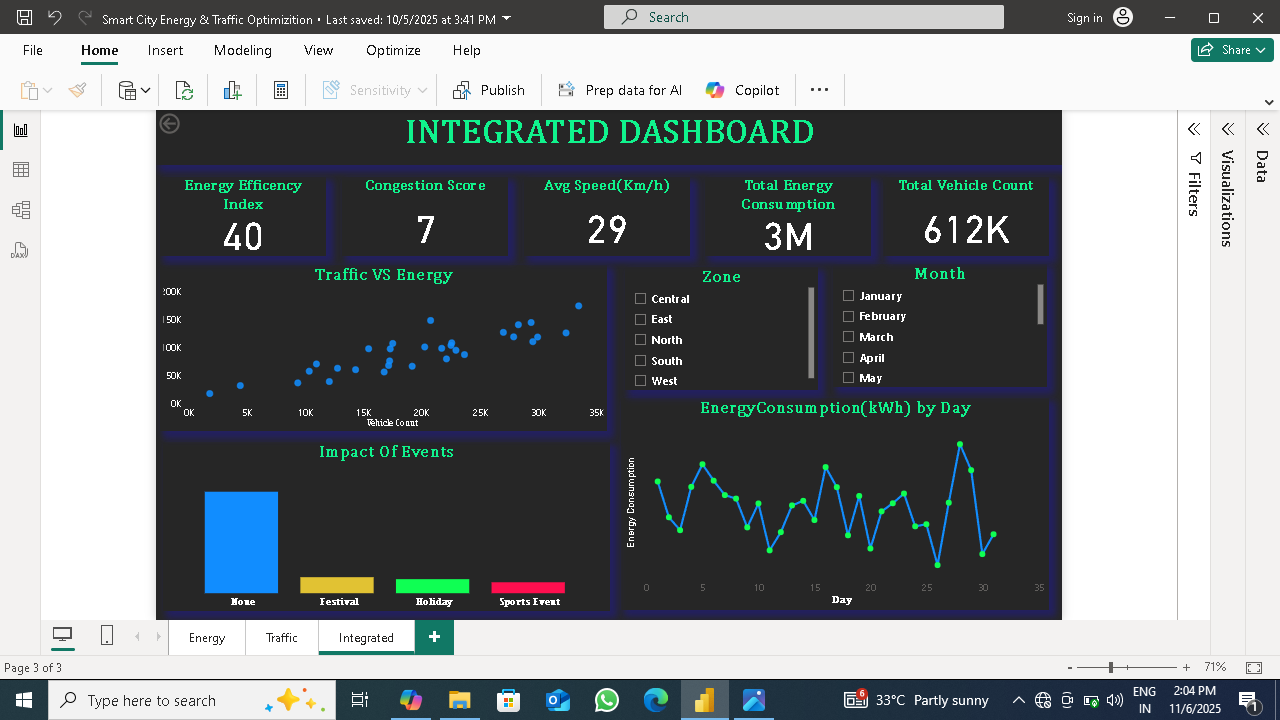

The dashboard page shown, as its layout file describes it:
{"tool":"powerbi","page":{"name":"Integrated","canvas":[1280,720],"ordinal":2},"visuals":[{"type":"textbox","box":[0,0,1280.5,77.6],"z":0},{"type":"card","title":"Energy Efficency Index","fields":{"Values":["smart_city_dataset.Energy Efficency Index"]},"box":[6.3,93.9,234.8,111.1],"z":1000},{"type":"card","title":"Total Energy Consumption","fields":{"Values":["smart_city_dataset.Total Energy Consumption"]},"box":[774.8,93.9,234.8,111.1],"z":2000},{"type":"card","title":"Avg Speed(Km/h)","fields":{"Values":["smart_city_dataset.Avg Speed"]},"box":[519.7,93.9,234.8,111.1],"z":3000},{"type":"card","title":"Congestion Score ","fields":{"Values":["smart_city_dataset.Congestion Score1"]},"box":[263,93.9,234.8,111.1],"z":4000},{"type":"card","title":"Total Vehicle Count","fields":{"Values":["smart_city_dataset.Total Vehicle Count"]},"box":[1026.8,93.9,234.8,111.1],"z":5000},{"type":"scatterChart","title":"Traffic VS Energy","fields":{"X":["smart_city_dataset.VehicleCount"],"Y":["smart_city_dataset.EnergyConsumption(kWh)"],"Category":["smart_city_dataset.Date.Variation.Date Hierarchy.Day"]},"box":[6.3,219.1,630.8,234.8],"z":6000},{"type":"clusteredColumnChart","title":"Impact Of Events","fields":{"Category":["smart_city_dataset.Event"],"Y":["smart_city_dataset.EnergyConsumption(kWh)"]},"box":[9.4,468,630.8,239.5],"z":7000},{"type":"lineChart","title":"EnergyConsumption(kWh) by Day","fields":{"Category":["smart_city_dataset.Date.Variation.Date Hierarchy.Day"],"Y":["smart_city_dataset.EnergyConsumption(kWh)"]},"box":[655.8,407,604.2,299],"z":8000},{"type":"slicer","title":"Month","fields":{"Values":["smart_city_dataset.Date.Variation.Date Hierarchy.Month"]},"box":[956.3,217.6,302.1,173.7],"z":9000},{"type":"slicer","title":"Zone","fields":{"Values":["smart_city_dataset.Zone"]},"box":[662.1,222.3,272.3,173.7],"z":10000},{"type":"actionButton","box":[0,0,46.7,38.3],"z":11000}]}

Visuals, with their boxes on the page's 1280x720 design canvas (x1, y1, x2, y2). These are canvas units, not pixel positions in the 1280x720 screenshot, which may show the page scaled, cropped or inside an application window:
textbox: locate(0, 0, 1280, 78)
"Energy Efficency Index" card: locate(6, 94, 241, 205)
"Total Energy Consumption" card: locate(775, 94, 1010, 205)
"Avg Speed(Km/h)" card: locate(520, 94, 754, 205)
"Congestion Score " card: locate(263, 94, 498, 205)
"Total Vehicle Count" card: locate(1027, 94, 1262, 205)
"Traffic VS Energy" scatterChart: locate(6, 219, 637, 454)
"Impact Of Events" clusteredColumnChart: locate(9, 468, 640, 708)
"EnergyConsumption(kWh) by Day" lineChart: locate(656, 407, 1260, 706)
"Month" slicer: locate(956, 218, 1258, 391)
"Zone" slicer: locate(662, 222, 934, 396)
actionButton: locate(0, 0, 47, 38)
